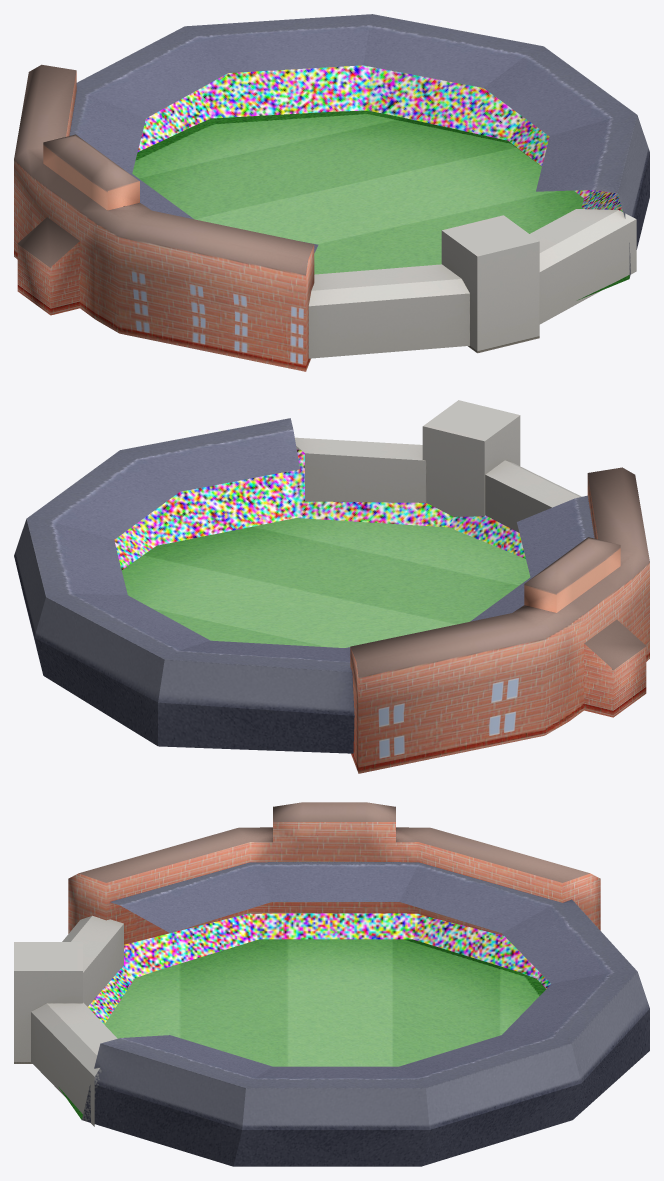
Rendered from stadium.glb.
3 views of the same model, one above another, from view 1: azimuth 30°, elevation 25°; view 2: azimuth 150°, elevation 25°; view 3: azimuth 270°, elevation 25° (orthographic). The views are drawn at different scales.
Visible parts, largest first — view 1: Stadium; view 2: Stadium; view 3: Stadium.
Boxes of the visible parts, box(x1,y1,x2,y2) form: Stadium: box(14, 14, 649, 371); Stadium: box(14, 400, 649, 773); Stadium: box(14, 802, 649, 1166).
Size of the model in its own units: 51.28 by 12.11 by 51.8.
Materials: 1 (1 with a texture image).
